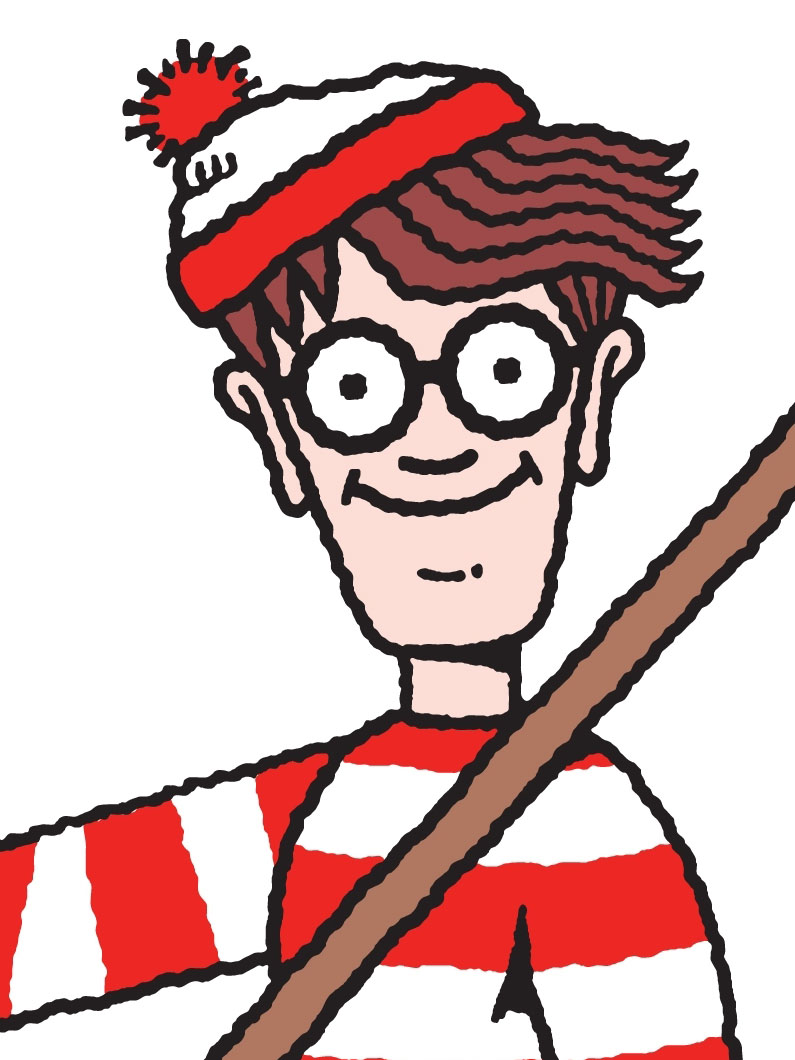waldo: (135, 51, 659, 660)
